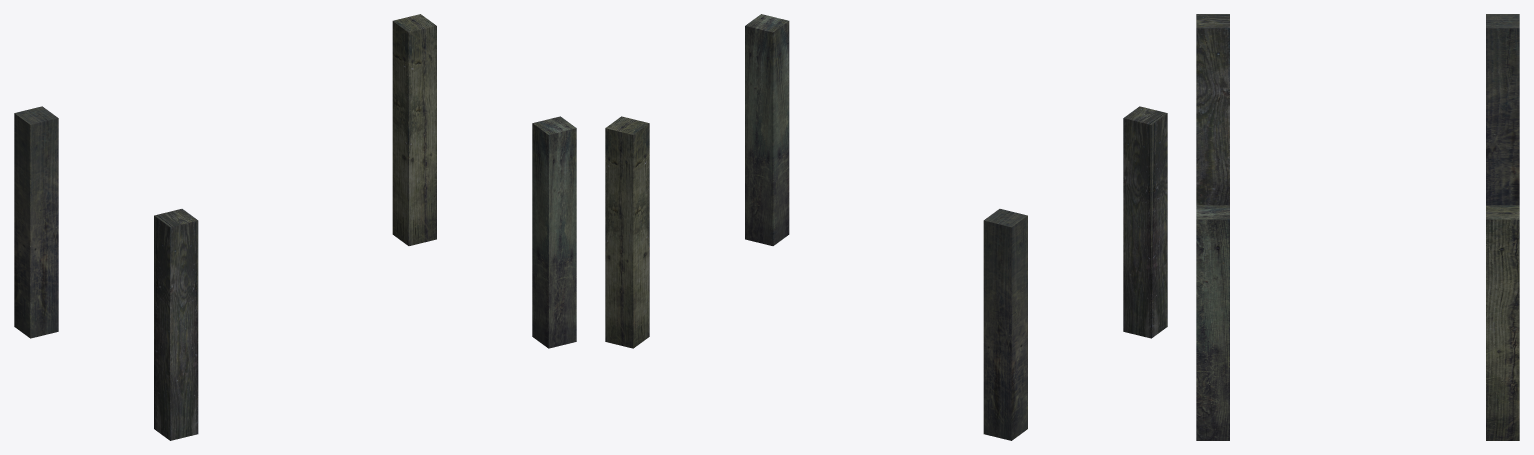
Rendered from OldWoodenPillars 1.5-2x3m.fbx.
The picture shows the model from 3 angles, left to right: view 1: azimuth 30°, elevation 25°; view 2: azimuth 150°, elevation 25°; view 3: azimuth 270°, elevation 25°; orthographic projection. The views are drawn at different scales.
Visible parts, largest first — view 1: OldWoodenPillars_1_5-2x3m; view 2: OldWoodenPillars_1_5-2x3m; view 3: OldWoodenPillars_1_5-2x3m.
Part boxes in pixels (<box>): OldWoodenPillars_1_5-2x3m: <box>14,14,576,440</box>; OldWoodenPillars_1_5-2x3m: <box>605,14,1167,440</box>; OldWoodenPillars_1_5-2x3m: <box>1196,14,1519,440</box>.
Bounding box in the file's own units: 2.99 × 1.5 × 1.99.
